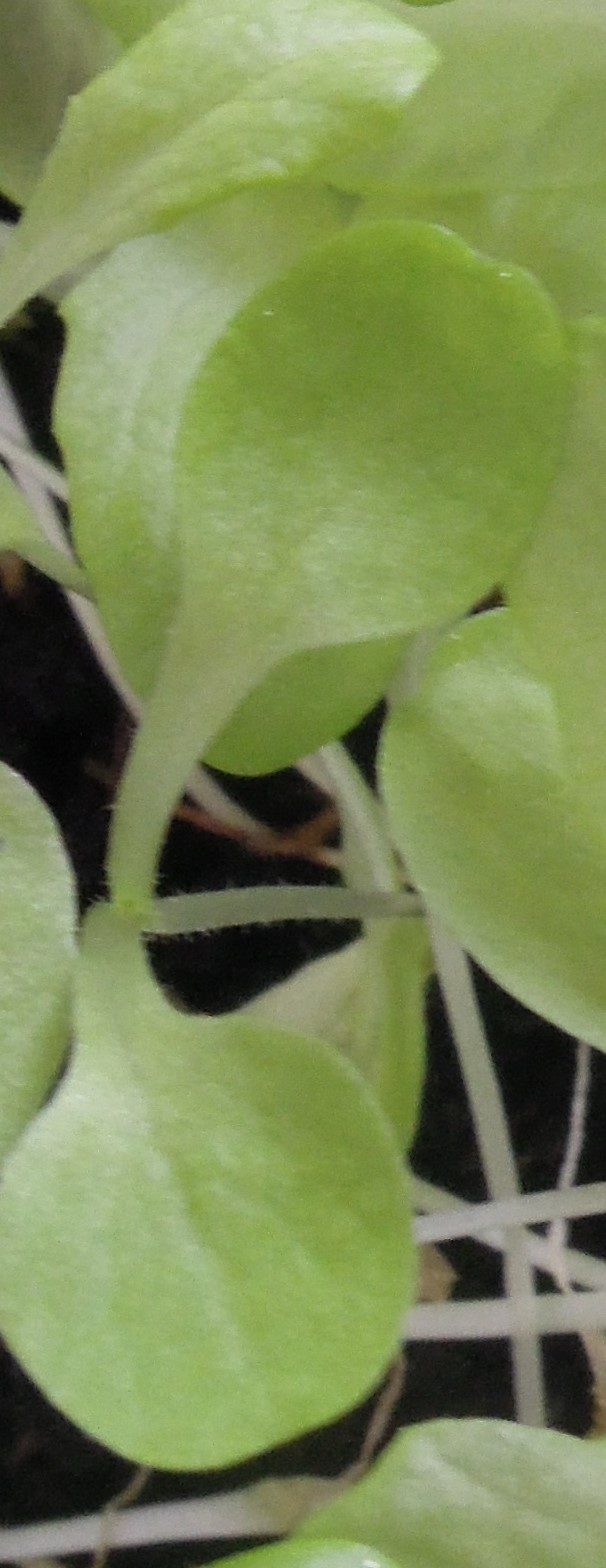week2: (76, 183, 577, 947), (1, 842, 496, 1479)
